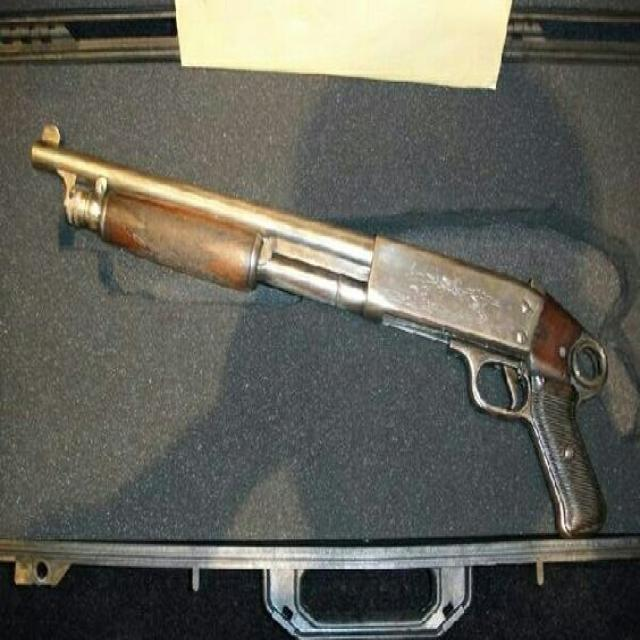shotgun: (2, 90, 640, 536)
